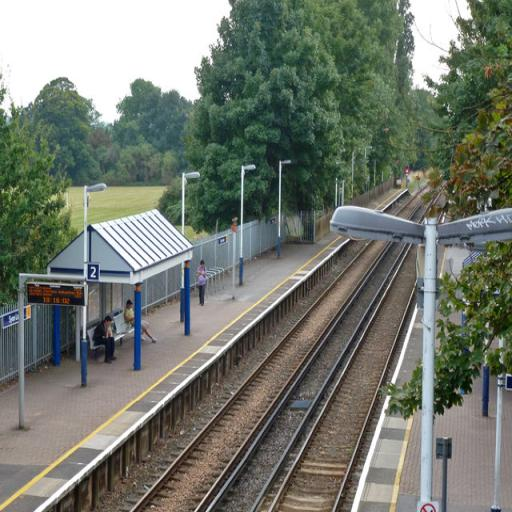platform_edge: (0, 384, 215, 512), (203, 298, 284, 344)
